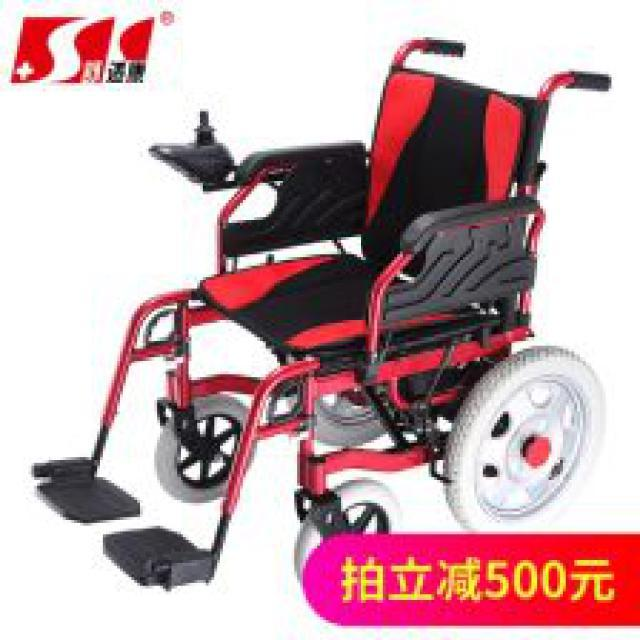wheelchair: (25, 31, 618, 586)
